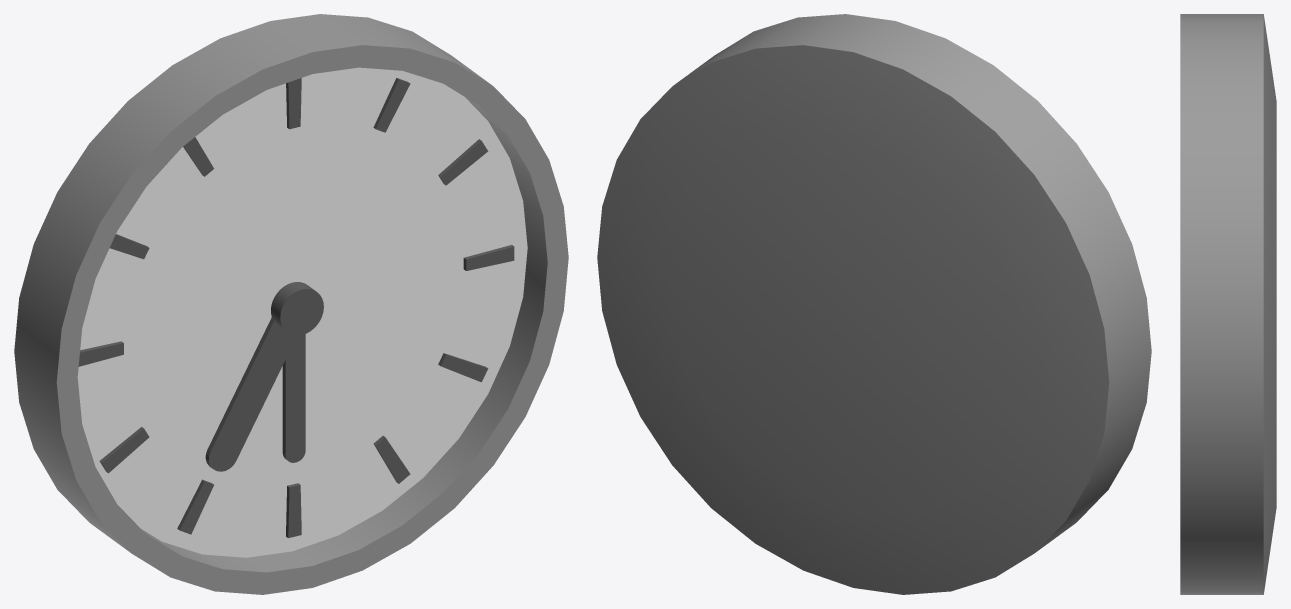
File: seven_thirty.gltf
3 views of the same model, side by side, from view 1: azimuth 30°, elevation 25°; view 2: azimuth 150°, elevation 25°; view 3: azimuth 270°, elevation 25° (orthographic).
Parts seen in each view (by area): view 1: Circle.2474, Circle.2475, Plane.280, Plane.281; view 2: Circle.2474; view 3: Circle.2474.
Boxes of the visible parts, left/top/right/bottom form: Circle.2474: left=14, top=14, right=568, bottom=594; Circle.2475: left=78, top=78, right=514, bottom=537; Plane.280: left=205, top=317, right=296, bottom=471; Plane.281: left=282, top=334, right=305, bottom=462; Circle.2474: left=597, top=14, right=1151, bottom=594; Circle.2474: left=1180, top=14, right=1276, bottom=594.
Bounding box in the file's own units: 2.33 × 2.33 × 0.387.
Materials: 1 (1 with a texture image).
